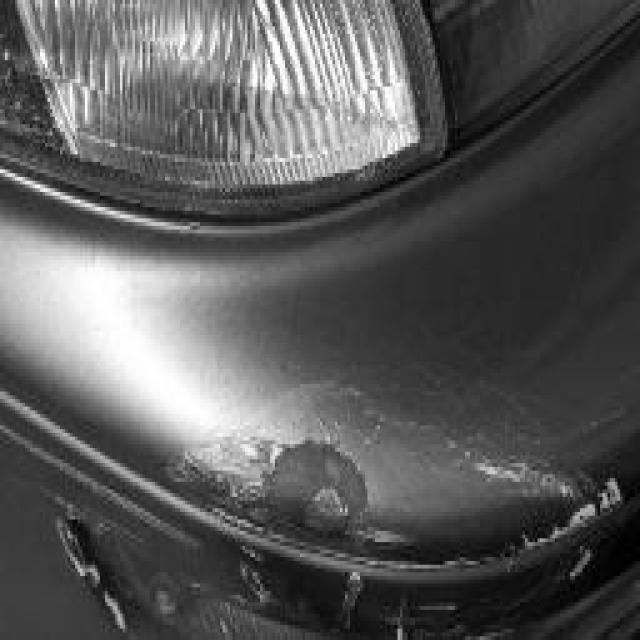Bumper: (45, 252, 638, 640)
